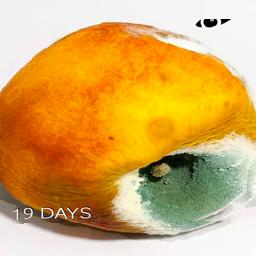Peach Rotten: (0, 20, 256, 225)
